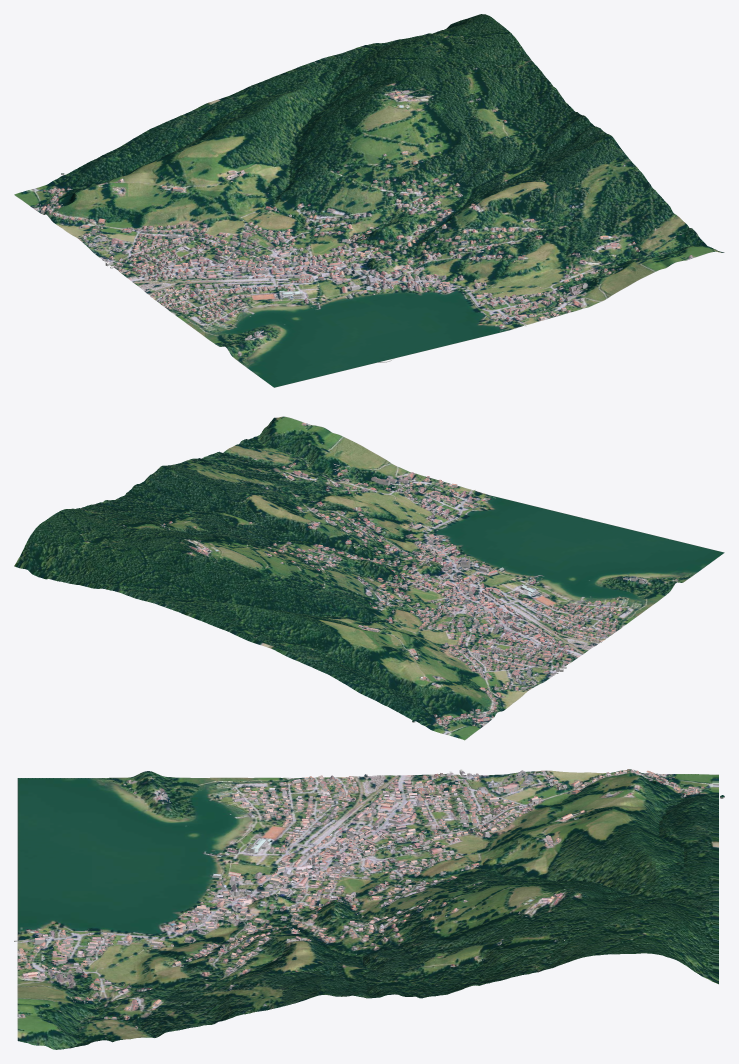
Rendered from asset.glb.
The picture shows the model from 3 angles, top to bottom: view 1: azimuth 30°, elevation 25°; view 2: azimuth 150°, elevation 25°; view 3: azimuth 270°, elevation 25°; orthographic projection. The views are drawn at different scales.
Visible parts, largest first — view 1: Schliersee_DGM_10m, Dach, Wand; view 2: Schliersee_DGM_10m, Dach, Wand; view 3: Schliersee_DGM_10m, Dach, Wand.
Boxes of the visible parts, bbox=[...] form: Schliersee_DGM_10m: bbox=[14, 14, 724, 387]; Dach: bbox=[32, 67, 691, 355]; Wand: bbox=[33, 68, 692, 355]; Schliersee_DGM_10m: bbox=[14, 416, 724, 740]; Dach: bbox=[122, 423, 677, 727]; Wand: bbox=[124, 424, 677, 728]; Schliersee_DGM_10m: bbox=[17, 769, 718, 1049]; Dach: bbox=[14, 769, 724, 1037]; Wand: bbox=[14, 770, 724, 1037].
Size of the model in its own units: 2005 by 448 by 2016.
Materials: 7 (3 with a texture image).
